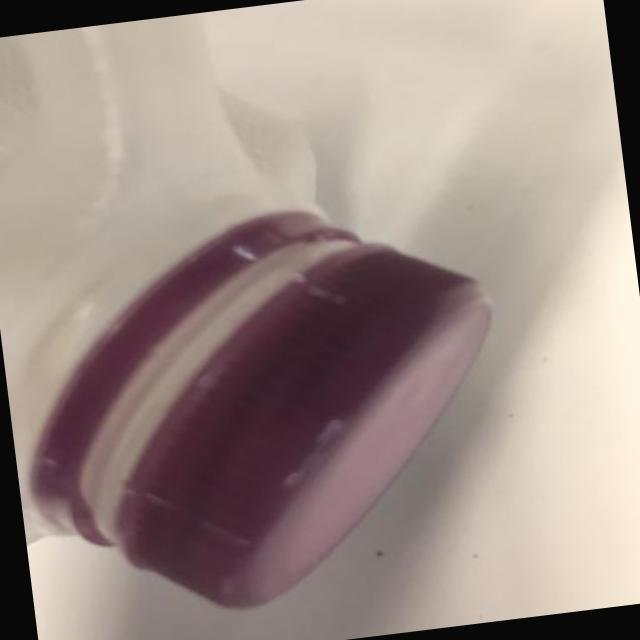plastic: (0, 223, 529, 625), (0, 3, 326, 463)
